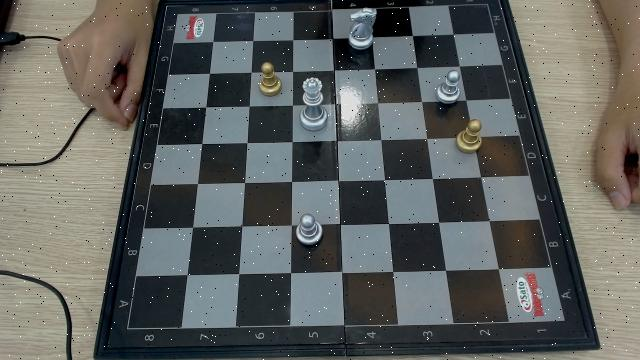black_pawn: (455, 119, 483, 155), (257, 62, 282, 97)
white_knight: (346, 7, 377, 52)
white_pawn: (294, 213, 323, 247), (435, 70, 462, 106)
white_queen: (299, 77, 326, 132)
